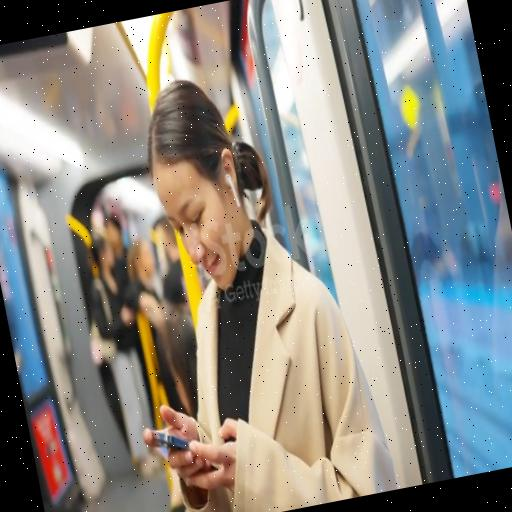earphone: (224, 170, 245, 218)
